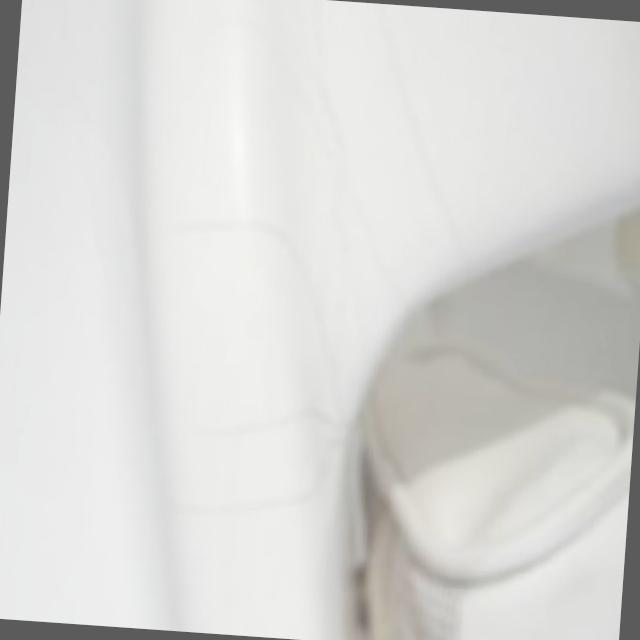crack: (219, 458, 401, 542), (205, 384, 331, 454), (183, 195, 273, 262)
